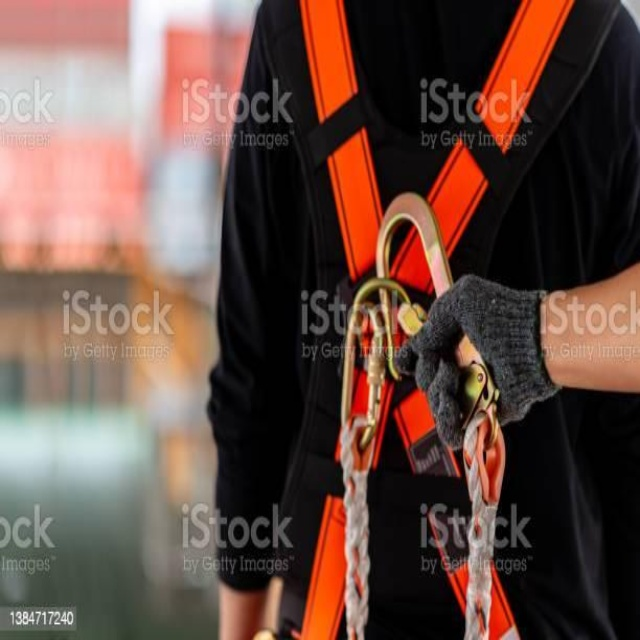Arnes_seguridad: (255, 0, 628, 640)
